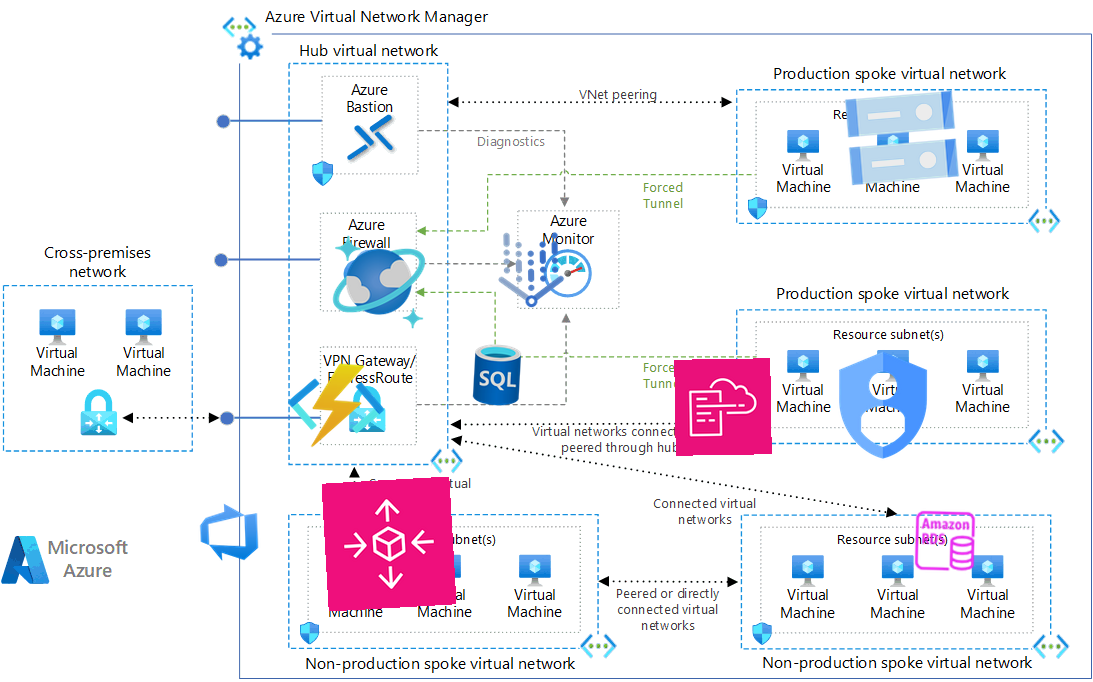aws_aurora_amazon_rds_instance: (912, 508, 978, 574)
aws_auto_scaling: (321, 476, 457, 612)
aws_cloudformation: (674, 358, 772, 456)
azure_cosmos_db: (329, 232, 429, 332)
azure_devops: (195, 498, 263, 566)
azure_function_apps: (284, 354, 388, 458)
azure_sql_database: (463, 341, 531, 409)
gcp_cloud_storage: (832, 68, 972, 208)
gcp_identity_and_access_management: (818, 340, 948, 470)
gcp_vertex_ai: (482, 221, 580, 319)
